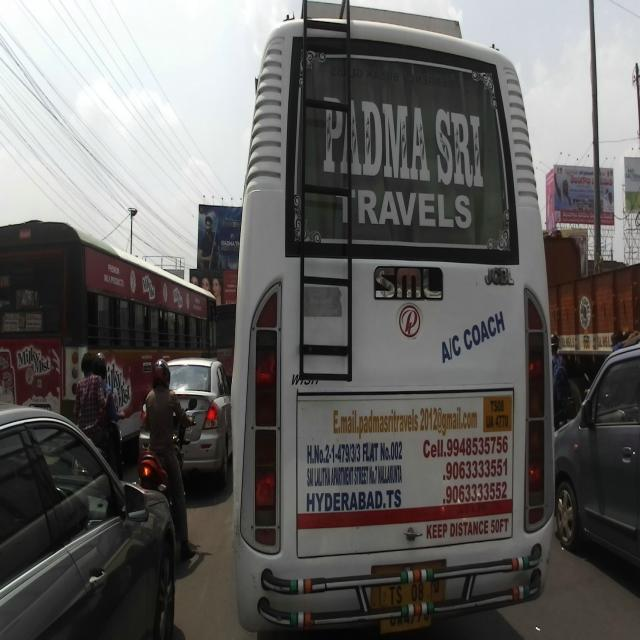Car_Maruti-Suzuki: (552, 346, 640, 564), (138, 354, 232, 489)
bus: (232, 0, 554, 639), (0, 220, 217, 465)
motorcycle_Hero: (136, 394, 197, 530)
